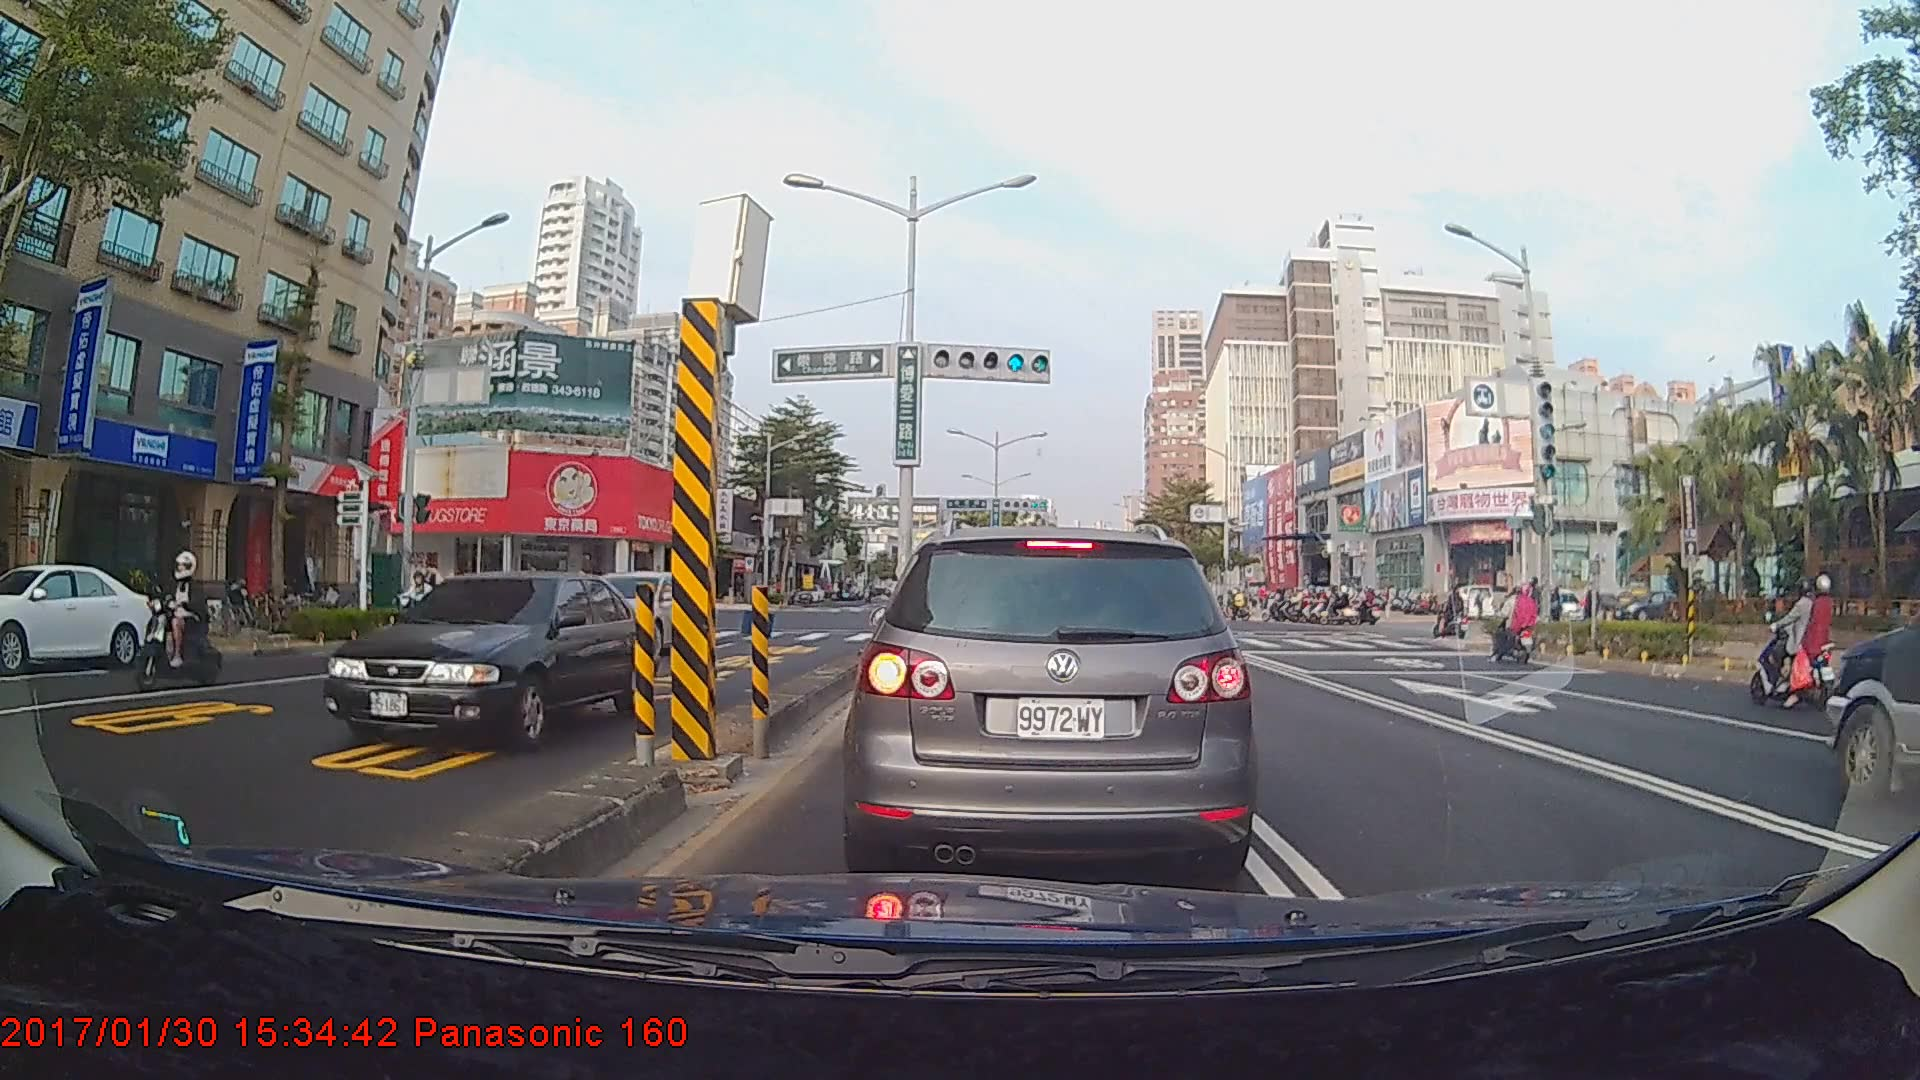rider: (1750, 574, 1844, 720), (132, 551, 221, 697), (1485, 582, 1548, 668), (1436, 582, 1473, 646)
vehicle: (853, 523, 1248, 877), (320, 569, 661, 752), (1823, 524, 1920, 805), (0, 561, 158, 671)
